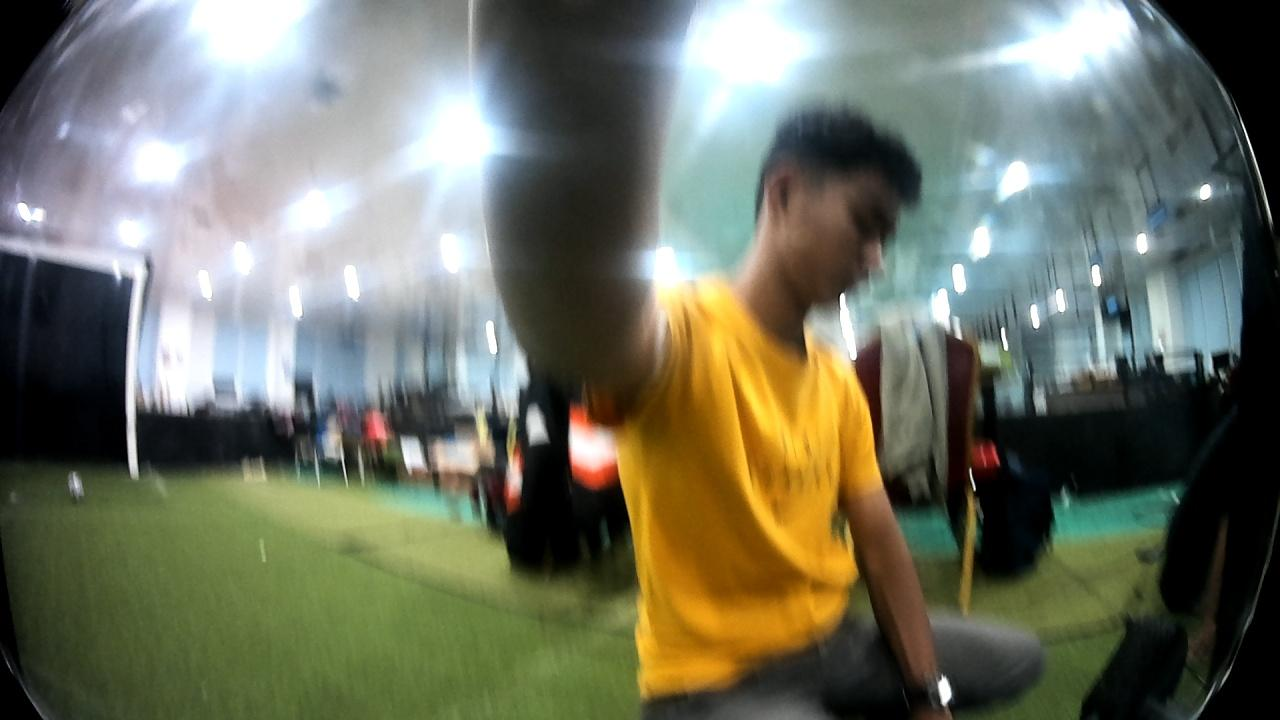ball: (65, 465, 89, 506)
